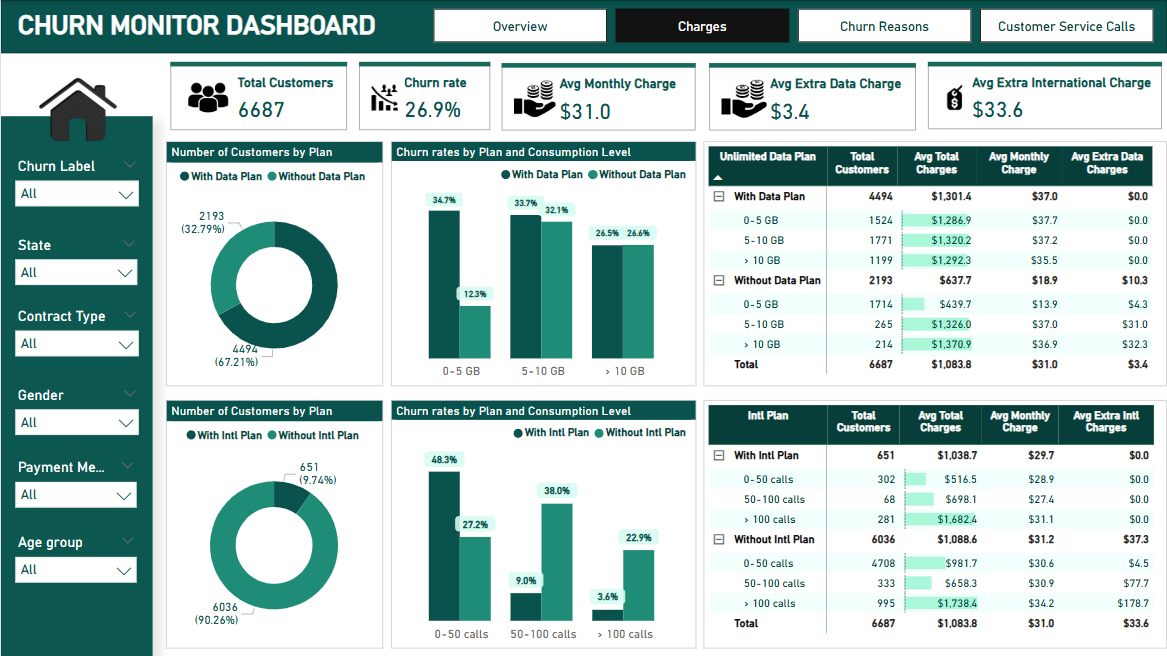

This screenshot's page, from the dashboard's own definition file:
{"tool":"powerbi","page":{"name":"Extra charges","canvas":[1280,720],"ordinal":2},"visuals":[{"type":"shape","box":[0,125.7,165.7,592.9],"z":0},{"type":"textbox","box":[31.7,15.9,258.3,37.5],"z":1000},{"type":"image","box":[32.3,61.5,103.1,107.7],"z":2000},{"type":"slicer","fields":{"Values":["Databel - Data.Contract Type"]},"box":[4.9,182.2,156.5,84.4],"z":3000},{"type":"slicer","fields":{"Values":["Databel - Data.Gender"]},"box":[2.4,266.6,156.5,75.8],"z":4000},{"type":"slicer","fields":{"Values":["Databel - Data.State"]},"box":[2.4,342.4,154.1,78.3],"z":5000},{"type":"actionButton","box":[13,679.5,47.6,40.4],"z":6000},{"type":"actionButton","box":[60.6,679.5,44.7,40.4],"z":7000},{"type":"slicer","fields":{"Values":["Databel - Data.Payment Method"]},"box":[2.4,420.7,152.9,80.7],"z":8000},{"type":"card","fields":{"Values":["Avg(Databel - Data.Monthly Charge)"]},"box":[524.6,15.9,218.9,94.2],"z":9000},{"type":"card","fields":{"Values":["Avg(Databel - Data.Extra Data Charges)"]},"box":[781.4,17.1,221.3,92.9],"z":10000},{"type":"card","fields":{"Values":["Avg(Databel - Data.Extra International Charges)"]},"box":[1040.6,17.1,220.1,92.9],"z":11000},{"type":"clusteredColumnChart","title":"Churn rate by Consumption Level and Unlimited Data Plan","fields":{"Series":["Databel - Data.Unlimited Data Plan"],"Category":["Databel - Data.Grouped Consumption"],"Y":["_Measures.Churn rate"]},"box":[474.7,128.4,432,281.3],"z":12000},{"type":"clusteredColumnChart","title":"Churn rate by Number of International Calls and International Plan","fields":{"Y":["_Measures.Churn rate"],"Series":["Databel - Data.Intl Plan"],"Category":["Databel - Data.No. Intl Calls"]},"box":[474.7,422.7,432,277],"z":13000},{"type":"card","fields":{"Values":["_Measures.Churn rate"]},"box":[332.6,15.9,154.1,94.2],"z":14000},{"type":"pieChart","fields":{"Category":["Databel - Data.Unlimited Data Plan"],"Y":["_Measures.Number of Customers"]},"box":[178,129.8,284.2,279.9],"z":15000},{"type":"pieChart","title":"Number of Customers by International Plan","fields":{"Y":["_Measures.Number of Customers"],"Category":["Databel - Data.Intl Plan"]},"box":[177.5,422.7,284.2,277],"z":16000},{"type":"pivotTable","title":"Avg Monthly Charge by Consumption and Data Unlimited Plan","fields":{"Rows":["Databel - Data.Grouped Consumption"],"Columns":["Databel - Data.Unlimited Data Plan"],"Values":["Avg(Databel - Data.Monthly Charge)"]},"box":[919,128.4,350.6,279.9],"z":17000},{"type":"pivotTable","title":"Avg Monthly Charge by Consumption and International Plan","fields":{"Values":["Avg(Databel - Data.Monthly Charge)"],"Columns":["Databel - Data.Intl Plan"],"Rows":["Databel - Data.No. Intl Calls"]},"box":[919,419.8,350.6,279.9],"z":18000},{"type":"slicer","fields":{"Values":["Databel - Data.Age (bins)"]},"box":[2.9,489.1,152.9,72.1],"z":18001}]}

Visuals, with their boxes in screenshot pixels (x1, y1, x2, y2), scaled from the page's 1280x720 canvas onto the 1167x656 screenshot:
shape: 0,115,151,655
textbox: 29,14,264,49
image: 29,56,123,154
slicer - Databel - Data.Contract Type: 4,166,147,243
slicer - Databel - Data.Gender: 2,243,145,312
slicer - Databel - Data.State: 2,312,143,383
actionButton: 12,619,55,655
actionButton: 55,619,96,655
slicer - Databel - Data.Payment Method: 2,383,142,457
card - Avg(Databel - Data.Monthly Charge): 478,14,678,100
card - Avg(Databel - Data.Extra Data Charges): 712,16,914,100
card - Avg(Databel - Data.Extra International Charges): 949,16,1149,100
"Churn rate by Consumption Level and Unlimited Data Plan" clusteredColumnChart: 433,117,827,373
"Churn rate by Number of International Calls and International Plan" clusteredColumnChart: 433,385,827,638
card - _Measures.Churn rate: 303,14,444,100
pieChart - Databel - Data.Unlimited Data Plan x _Measures.Number of Customers: 162,118,421,373
"Number of Customers by International Plan" pieChart: 162,385,421,638
"Avg Monthly Charge by Consumption and Data Unlimited Plan" pivotTable: 838,117,1158,372
"Avg Monthly Charge by Consumption and International Plan" pivotTable: 838,382,1158,638
slicer - Databel - Data.Age (bins): 3,446,142,511
